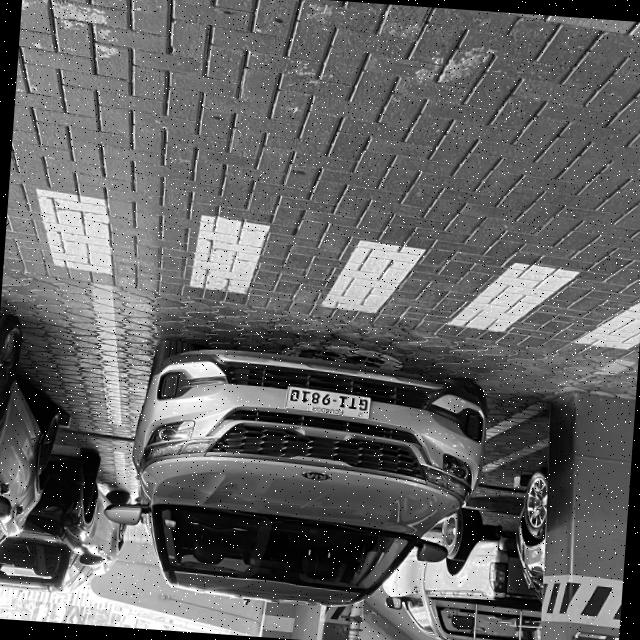Placa: (285, 385, 369, 418)
